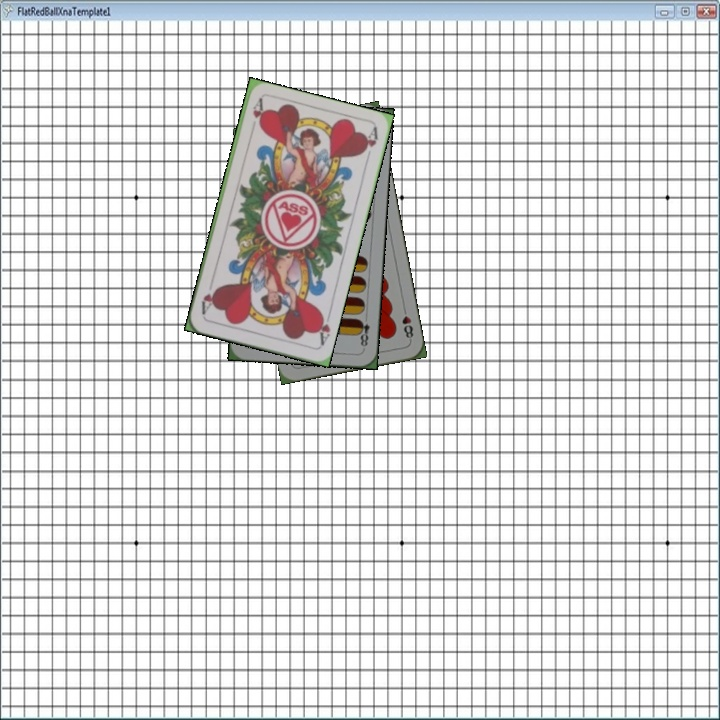E8: (354, 311, 372, 352)
H8: (398, 303, 416, 343)
HA: (312, 308, 333, 348), (249, 96, 266, 128)
